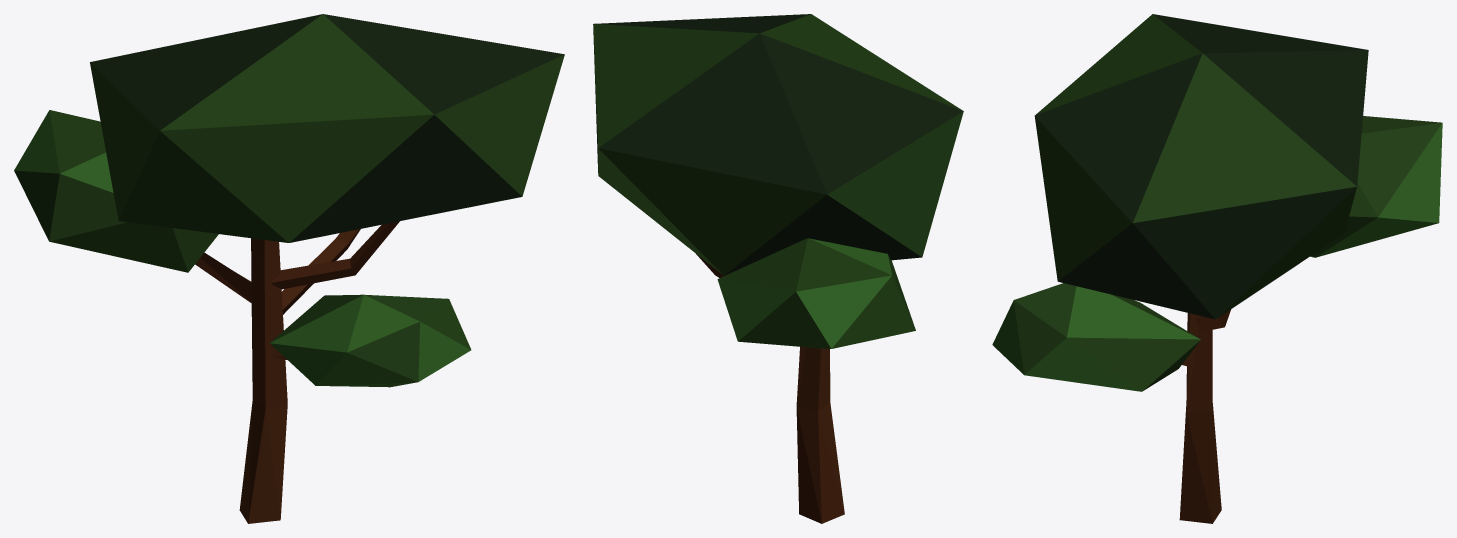
Rendered from Tree3_M1_6_big.fbx.
3 views of the same model, side by side, from view 1: azimuth 30°, elevation 25°; view 2: azimuth 150°, elevation 25°; view 3: azimuth 270°, elevation 25° (orthographic). The views are drawn at different scales.
Parts seen in each view (by area): view 1: Tree3_M1_6_big; view 2: Tree3_M1_6_big; view 3: Tree3_M1_6_big.
Boxes of the visible parts, x1,y1,x2,y2 form: Tree3_M1_6_big: (14,14,564,523); Tree3_M1_6_big: (593,14,963,523); Tree3_M1_6_big: (992,14,1442,523).
Bounding box in the file's own units: 621 × 676 × 559.
